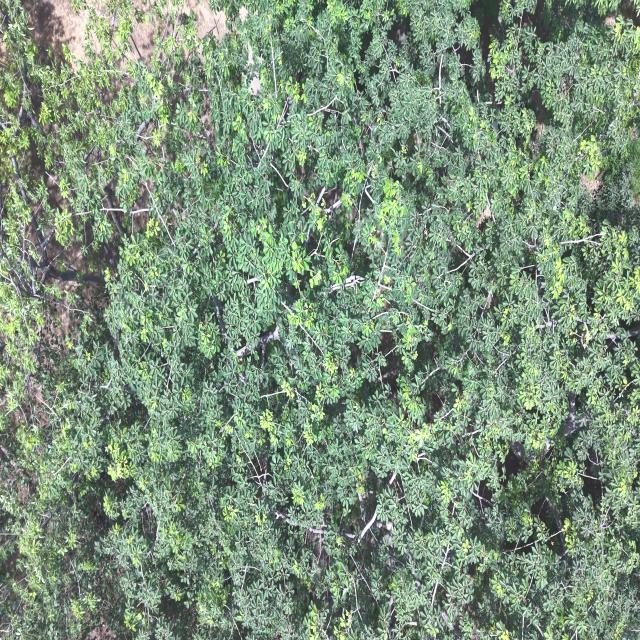DRY_AREA: (24, 0, 89, 60), (24, 0, 88, 59)
VEGETATION_TREE: (0, 0, 639, 639)
